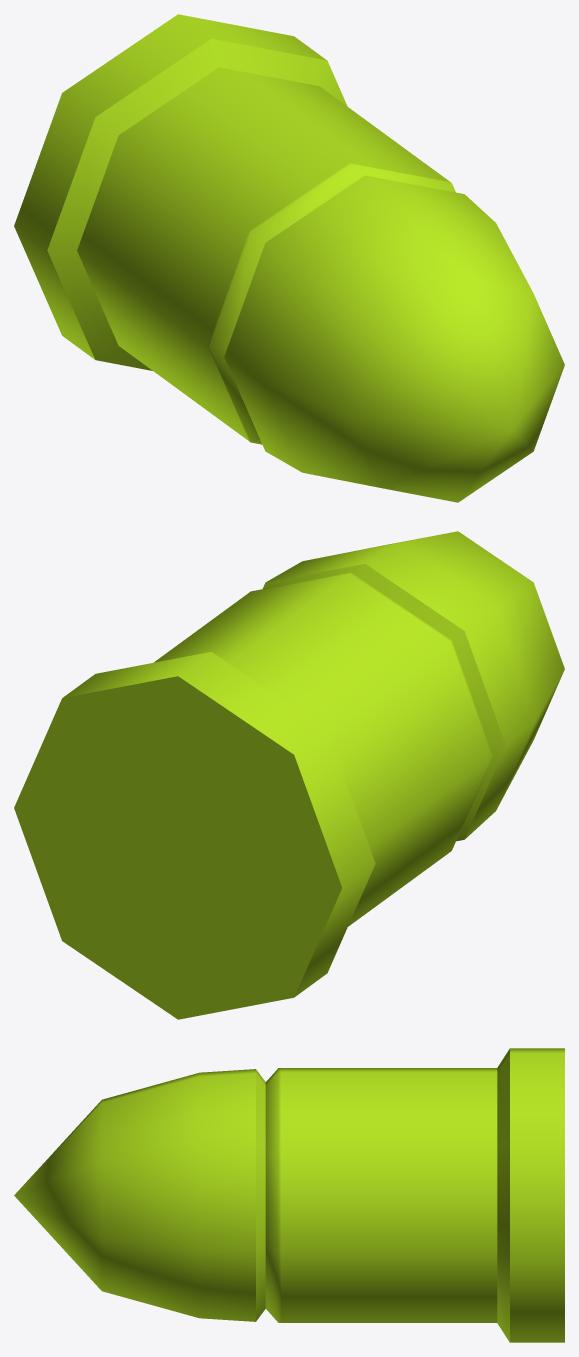
The model's file is bullet.obj.
3 renders of one model, top to bottom at view 1: azimuth 30°, elevation 25°; view 2: azimuth 150°, elevation 25°; view 3: azimuth 270°, elevation 25°, orthographic. The views are drawn at different scales.
Parts seen in each view (by area): view 1: Shell; view 2: Shell; view 3: Shell.
Part boxes in pixels (<box>): Shell: <box>14,14,564,502</box>; Shell: <box>14,531,564,1019</box>; Shell: <box>14,1048,564,1342</box>.
Bounding box in the file's own units: 0.2988 × 0.2988 × 0.5252.
1 material, 1 textured.
